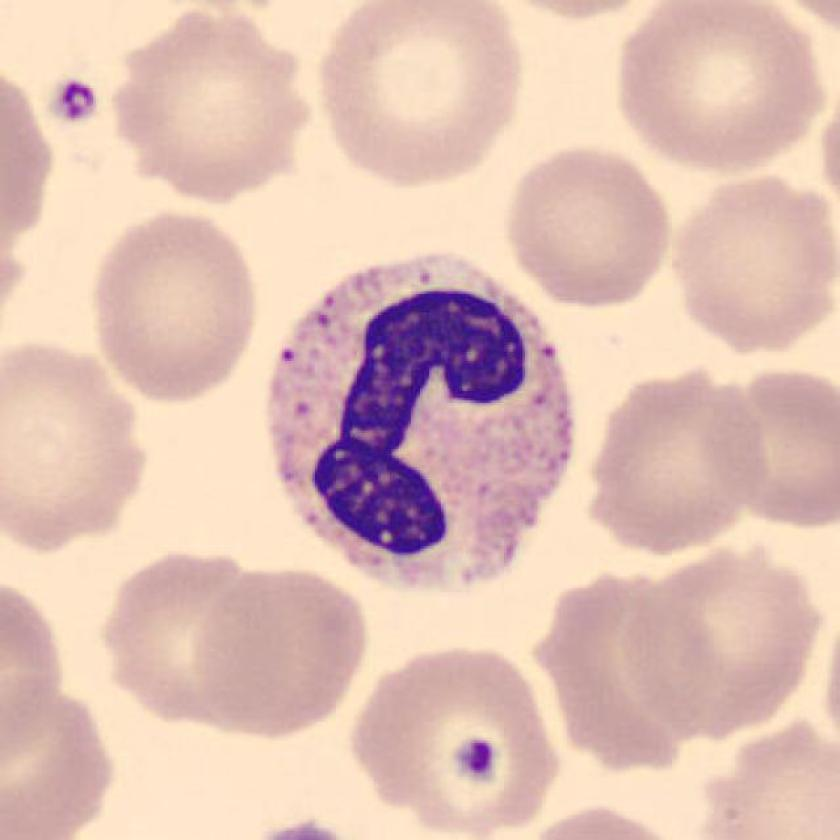neutrophil: (268, 253, 570, 588)
